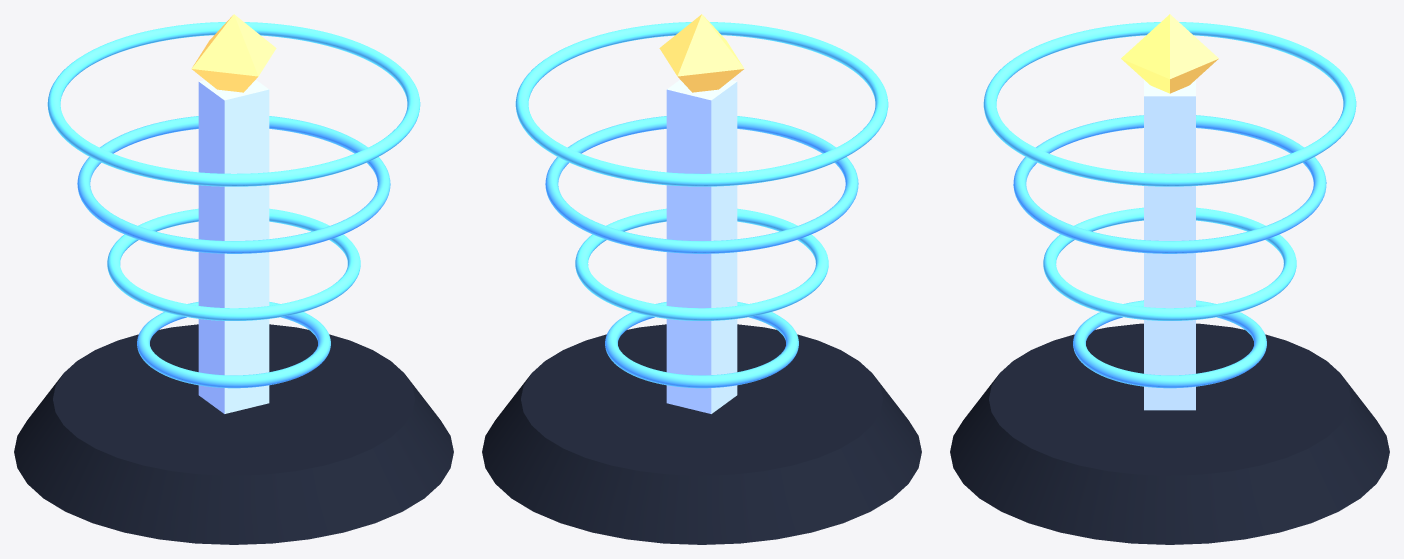
Rendered from signal-totem.glb.
3 renders of one model, left to right at view 1: azimuth 30°, elevation 25°; view 2: azimuth 150°, elevation 25°; view 3: azimuth 270°, elevation 25°, orthographic.
Parts seen in each view (by area): view 1: SignalTotem, beacon; view 2: SignalTotem, beacon; view 3: SignalTotem, beacon.
Part boxes in pixels (x1=…): SignalTotem: x1=14, y1=22, x2=453, y2=544; beacon: x1=191, y1=14, x2=276, y2=92; SignalTotem: x1=482, y1=22, x2=921, y2=544; beacon: x1=659, y1=14, x2=744, y2=92; SignalTotem: x1=950, y1=22, x2=1389, y2=544; beacon: x1=1121, y1=14, x2=1218, y2=93.
Bounding box in the file's own units: 3.4 × 3.73 × 3.4.
